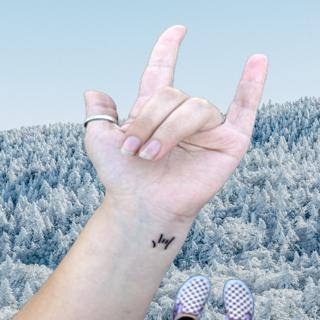ILY: (75, 19, 274, 222)
